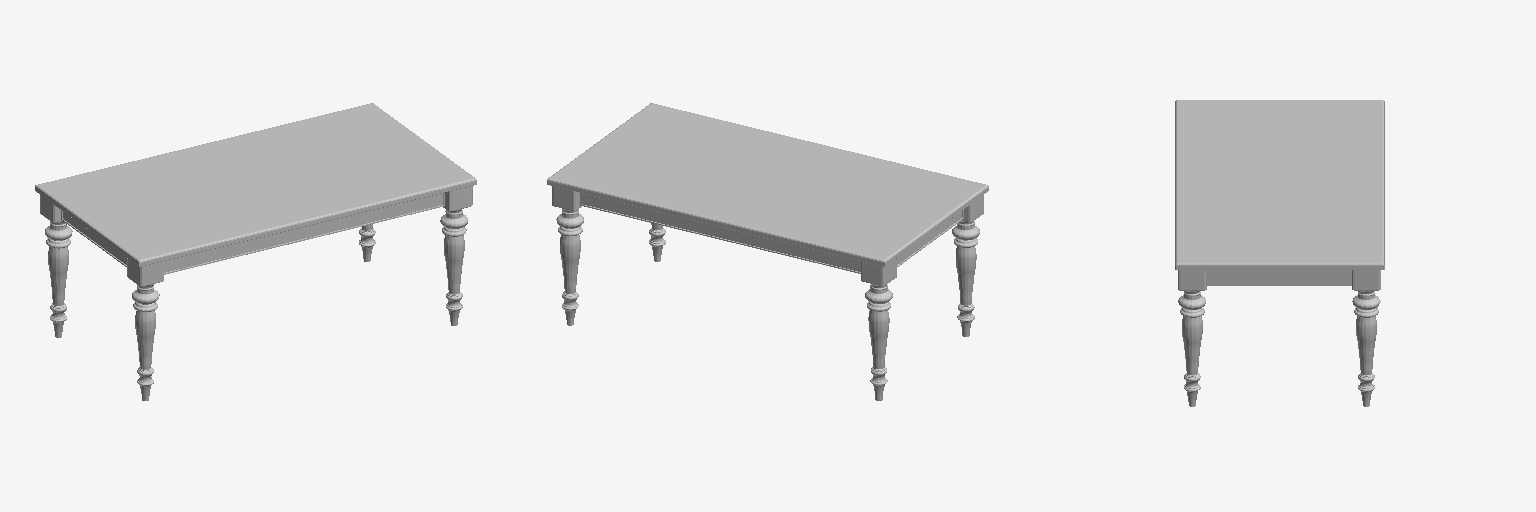
The model's file is diningTable.obj.
3 views of the same model, side by side, from view 1: azimuth 30°, elevation 25°; view 2: azimuth 150°, elevation 25°; view 3: azimuth 270°, elevation 25° (orthographic).
Parts seen in each view (by area): view 1: Object.1; view 2: Object.1; view 3: Object.1.
Part boxes in pixels (x1,y1,x2,y2): Object.1: (35,103,476,400); Object.1: (547,103,988,400); Object.1: (1175,100,1384,406).
Size of the model in its own units: 841 by 353 by 450.